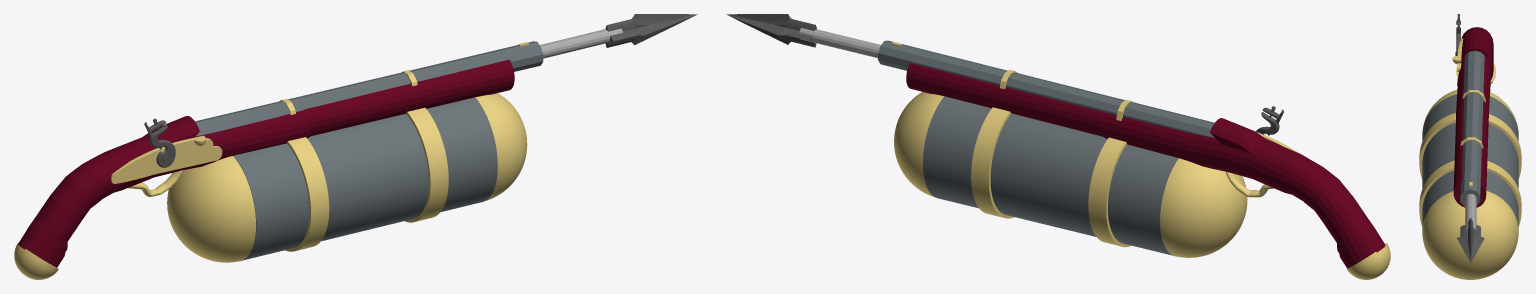
File: harpoonGun.fbx
3 renders of one model, left to right at view 1: azimuth 30°, elevation 25°; view 2: azimuth 150°, elevation 25°; view 3: azimuth 270°, elevation 25°, orthographic. The views are drawn at different scales.
Parts seen in each view (by area): view 1: harpoonGun:tankMiddle, harpoonGun:pCylinder1, tankSides, pCylinder7, harpoonGun:couplings, Part19, harpoonGun:tip, harpoonShaft, harpoonGun:pSphere3, harpoonGun:part1, tip, pTriggerGuard; view 2: harpoonGun:tankMiddle, harpoonGun:pCylinder1, tankSides, pCylinder7, harpoonGun:couplings, harpoonGun:tip, harpoonShaft, harpoonGun:pSphere1, tip, harpoonGun:part1; view 3: tankSides, harpoonGun:tankMiddle, harpoonGun:pCylinder1, pCylinder7, harpoonGun:couplings, tip, harpoonShaft, harpoonGun:tip, harpoonGun:part1, Part19, pCylinder4, pCylinder5.
Boxes of the visible parts, <box> form: harpoonGun:tankMiddle: <box>233,97,497,260</box>; harpoonGun:pCylinder1: <box>18,59,514,267</box>; tankSides: <box>167,93,527,262</box>; pCylinder7: <box>195,41,543,136</box>; harpoonGun:couplings: <box>285,107,448,251</box>; Part19: <box>111,136,222,183</box>; harpoonGun:tip: <box>605,14,696,47</box>; harpoonShaft: <box>540,28,622,58</box>; harpoonGun:pSphere3: <box>18,248,58,279</box>; harpoonGun:part1: <box>144,118,175,167</box>; tip: <box>609,14,696,41</box>; pTriggerGuard: <box>128,170,182,196</box>; harpoonGun:tankMiddle: <box>923,96,1178,255</box>; harpoonGun:pCylinder1: <box>906,63,1385,268</box>; tankSides: <box>894,92,1247,257</box>; pCylinder7: <box>878,40,1214,137</box>; harpoonGun:couplings: <box>971,107,1131,247</box>; harpoonGun:tip: <box>727,14,816,47</box>; harpoonShaft: <box>799,28,880,58</box>; harpoonGun:pSphere1: <box>1347,248,1387,279</box>; tip: <box>726,14,812,41</box>; harpoonGun:part1: <box>1255,106,1283,135</box>; tankSides: <box>1422,90,1518,279</box>; harpoonGun:tankMiddle: <box>1422,94,1518,227</box>; harpoonGun:pCylinder1: <box>1453,27,1493,207</box>; pCylinder7: <box>1460,50,1484,206</box>; harpoonGun:couplings: <box>1419,113,1521,226</box>; tip: <box>1457,225,1484,262</box>; harpoonShaft: <box>1465,194,1476,229</box>; harpoonGun:tip: <box>1468,218,1473,262</box>; harpoonGun:part1: <box>1455,14,1460,55</box>; Part19: <box>1452,40,1461,86</box>; pCylinder4: <box>1460,137,1483,148</box>; pCylinder5: <box>1462,90,1485,102</box>.
Bounding box in the file's own units: 12.75 × 2.99 × 2.05.
